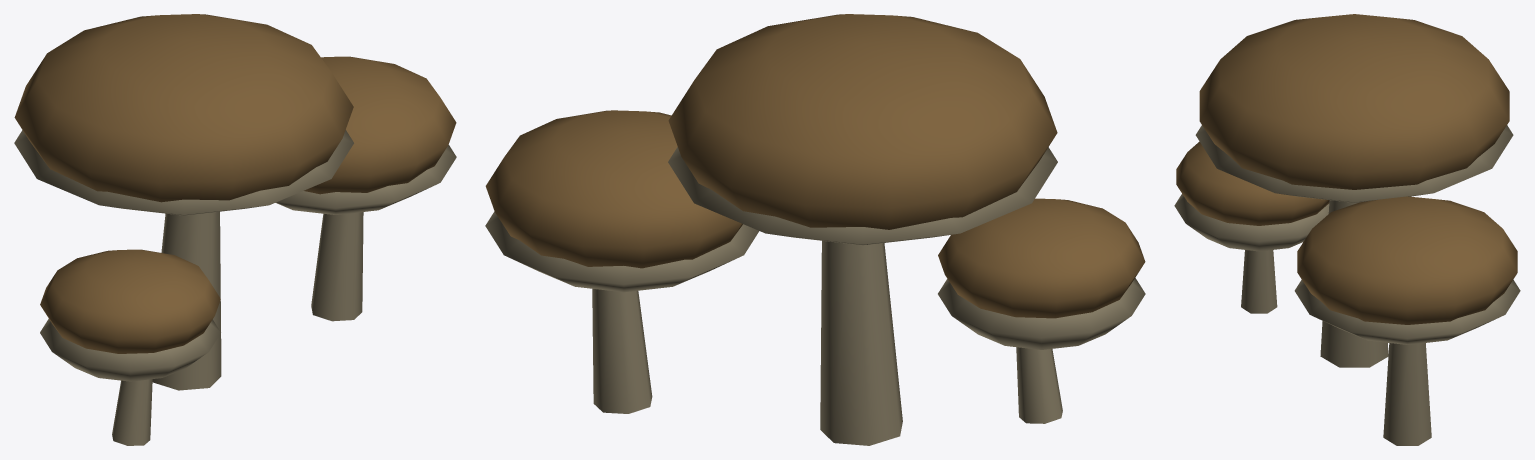
3 views of the same model, side by side, from view 1: azimuth 30°, elevation 25°; view 2: azimuth 150°, elevation 25°; view 3: azimuth 270°, elevation 25° (orthographic). The views are drawn at different scales.
Visible parts, largest first — view 1: Stem; view 2: Stem; view 3: Stem.
Boxes of the visible parts, box(x1,y1,x2,y2) form: Stem: box(14, 14, 456, 445); Stem: box(485, 14, 1145, 445); Stem: box(1174, 14, 1520, 445).
Size of the model in its own units: 1.43 by 0.9868 by 0.98.
